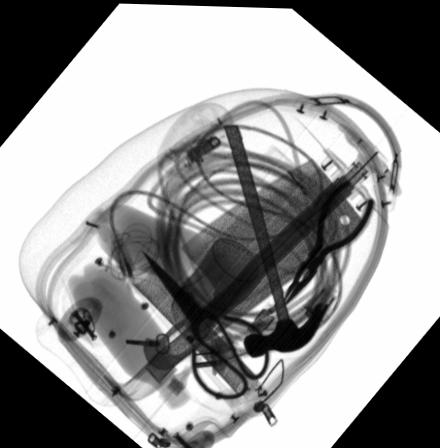Hammer: (222, 121, 330, 356)
Knife: (141, 153, 370, 370)
Pliers: (280, 174, 377, 305)
Scissors: (140, 250, 270, 397)
